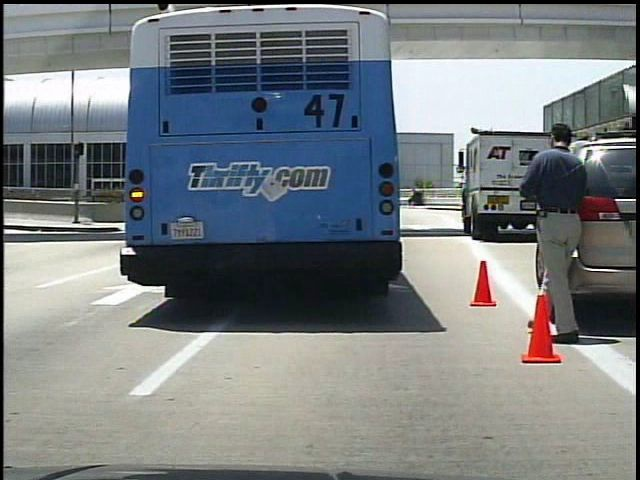person: (519, 116, 599, 345)
